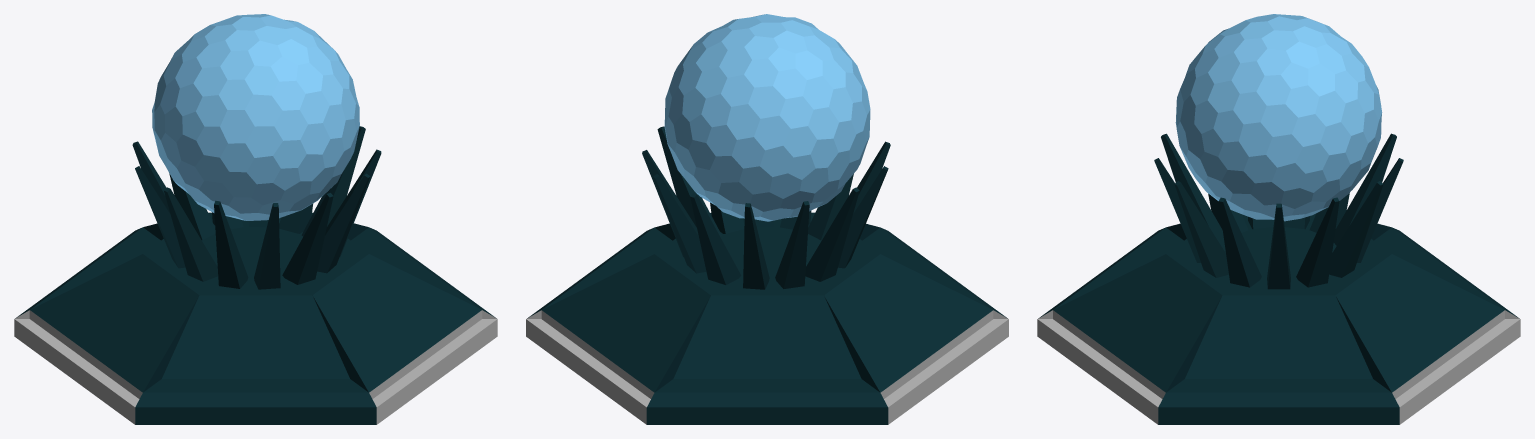
Rendered from FreezingTower.fbx.
3 views of the same model, side by side, from view 1: azimuth 30°, elevation 25°; view 2: azimuth 150°, elevation 25°; view 3: azimuth 270°, elevation 25° (orthographic).
Parts seen in each view (by area): view 1: Cylinder.003, DualMesh; view 2: Cylinder.003, DualMesh; view 3: Cylinder.003, DualMesh.
Boxes of the visible parts, left/top/right/bottom form: Cylinder.003: left=14, top=126, right=497, bottom=424; DualMesh: left=152, top=14, right=359, bottom=220; Cylinder.003: left=526, top=126, right=1008, bottom=424; DualMesh: left=664, top=14, right=870, bottom=221; Cylinder.003: left=1037, top=133, right=1520, bottom=424; DualMesh: left=1175, top=14, right=1382, bottom=221.
Bounding box in the file's own units: 173 × 142 × 200.
